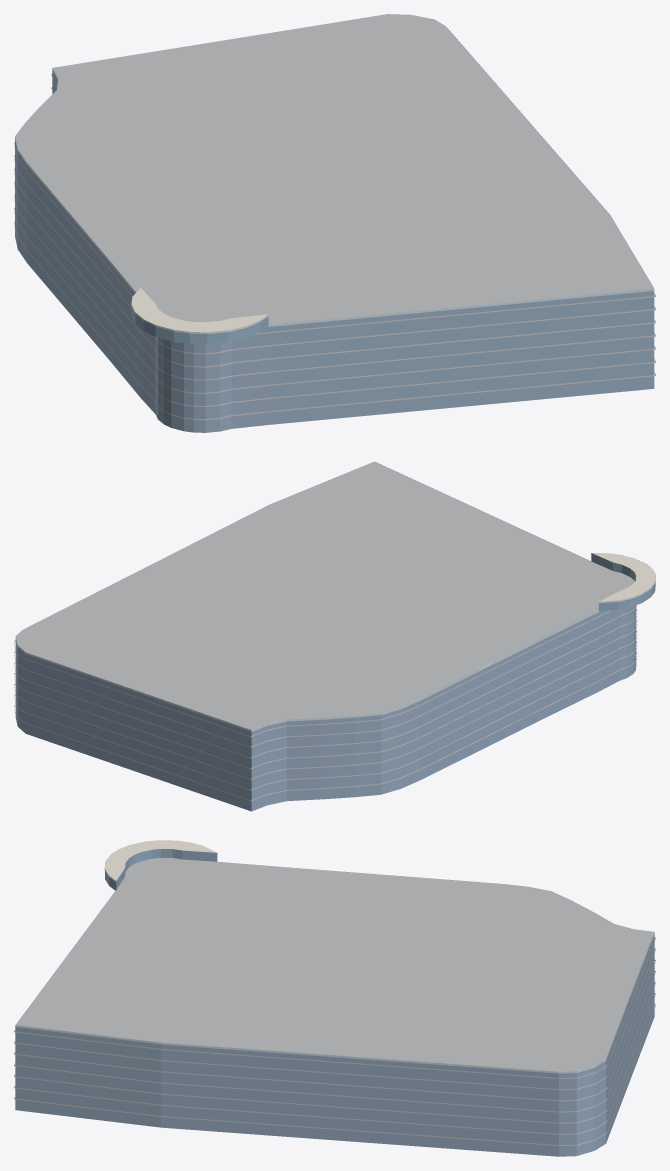
Rendered from paragon.glb.
3 views of the same model, one above another, from view 1: azimuth 30°, elevation 25°; view 2: azimuth 150°, elevation 25°; view 3: azimuth 270°, elevation 25° (orthographic). The views are drawn at different scales.
Parts seen in each view (by area): view 1: paragon; view 2: paragon; view 3: paragon.
Boxes of the visible parts, box(x1,y1,x2,y2) form: paragon: box(14, 14, 655, 432); paragon: box(14, 461, 655, 811); paragon: box(14, 840, 655, 1156).
Bounding box in the file's own units: 214 × 42 × 260.
